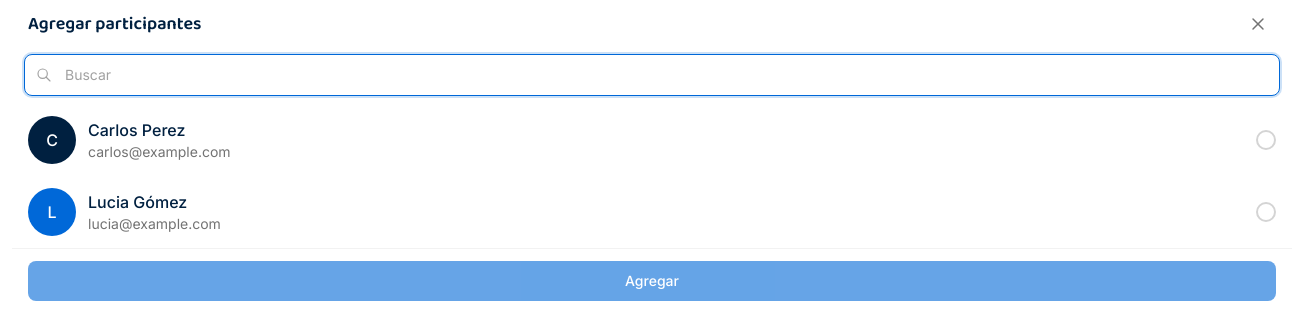
Test: AddMembersModal › filters candidate list when searching by name
In the field with placeholder "Buscar": (652,75) 24,54 -> 1280,96, type "carlos"
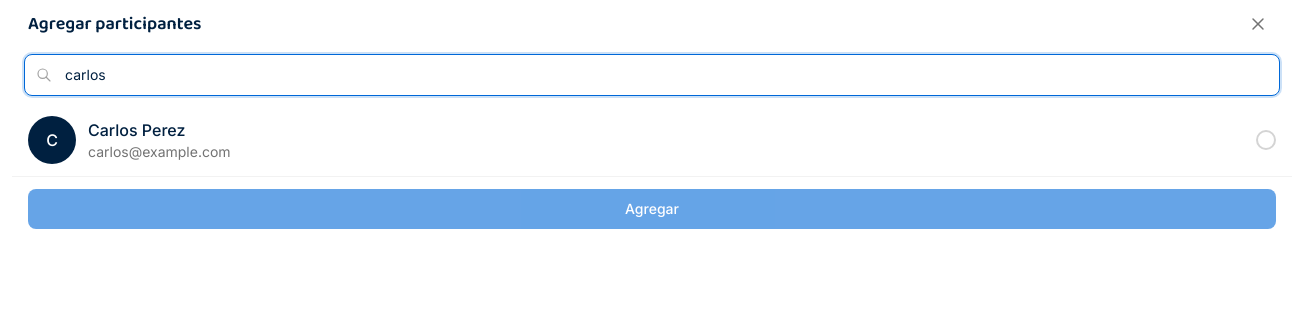
Expected: the text "Carlos Perez" is shown, 88,120 -> 185,140
Expected: the button "Lucia Gómez" is gone
